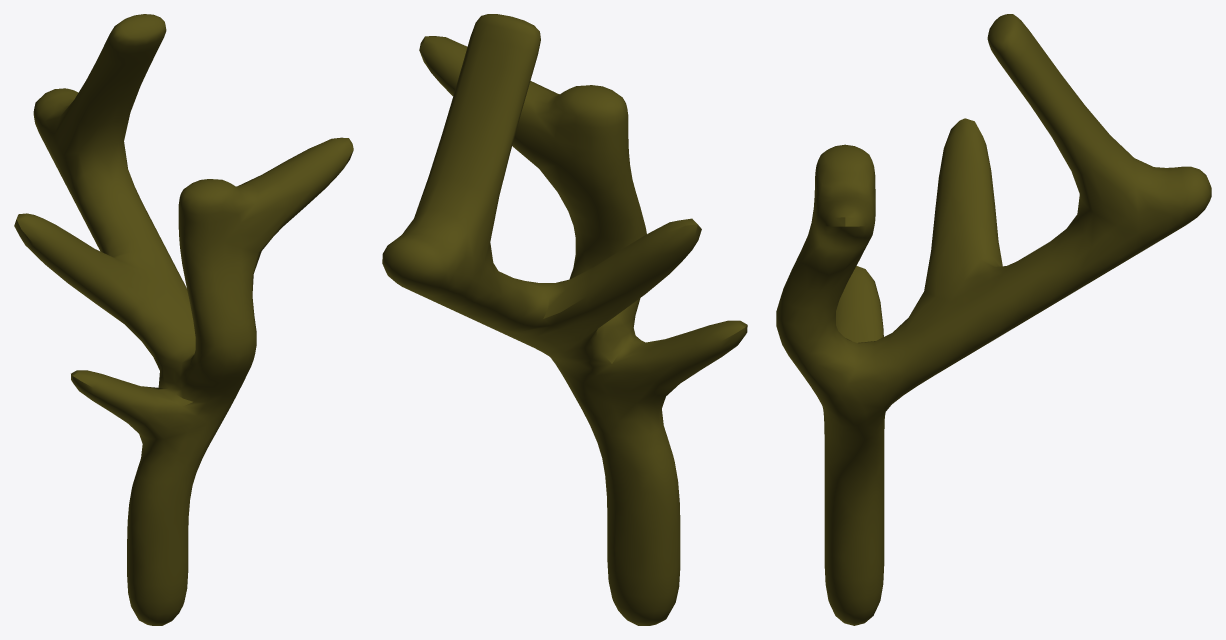
Rendered from Dead Tree 7.fbx.
The picture shows the model from 3 angles, left to right: view 1: azimuth 30°, elevation 25°; view 2: azimuth 150°, elevation 25°; view 3: azimuth 270°, elevation 25°; orthographic projection. The views are drawn at different scales.
Visible parts, largest first — view 1: Cube; view 2: Cube; view 3: Cube.
Part boxes in pixels (<box>): Cube: <box>14,14,353,625</box>; Cube: <box>382,14,747,625</box>; Cube: <box>776,14,1211,625</box>.
Size of the model in its own units: 230 by 423 by 265.
